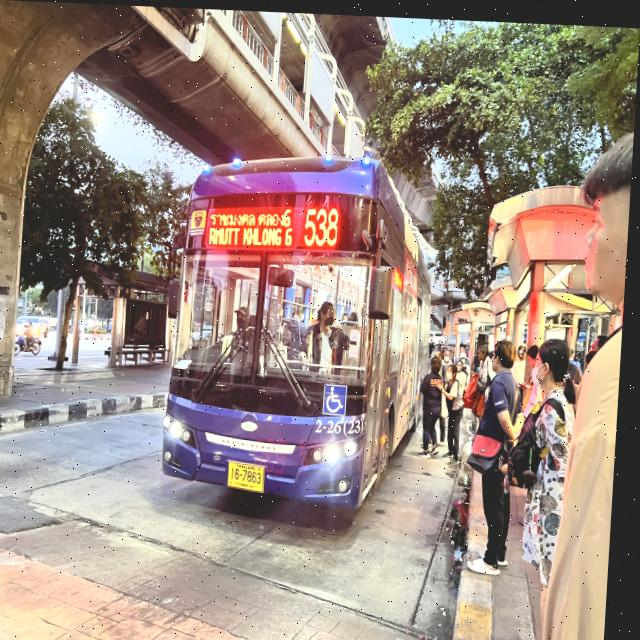Bus-Line-Number: (303, 198, 347, 247)
Destination-Sign-Normal: (203, 201, 299, 246)
TSB-Bus: (158, 134, 445, 517)
